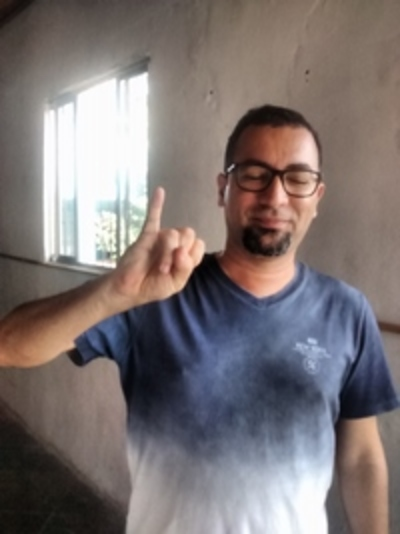closedhandfront: (136, 227, 208, 297)
mindinho: (141, 177, 169, 237)
